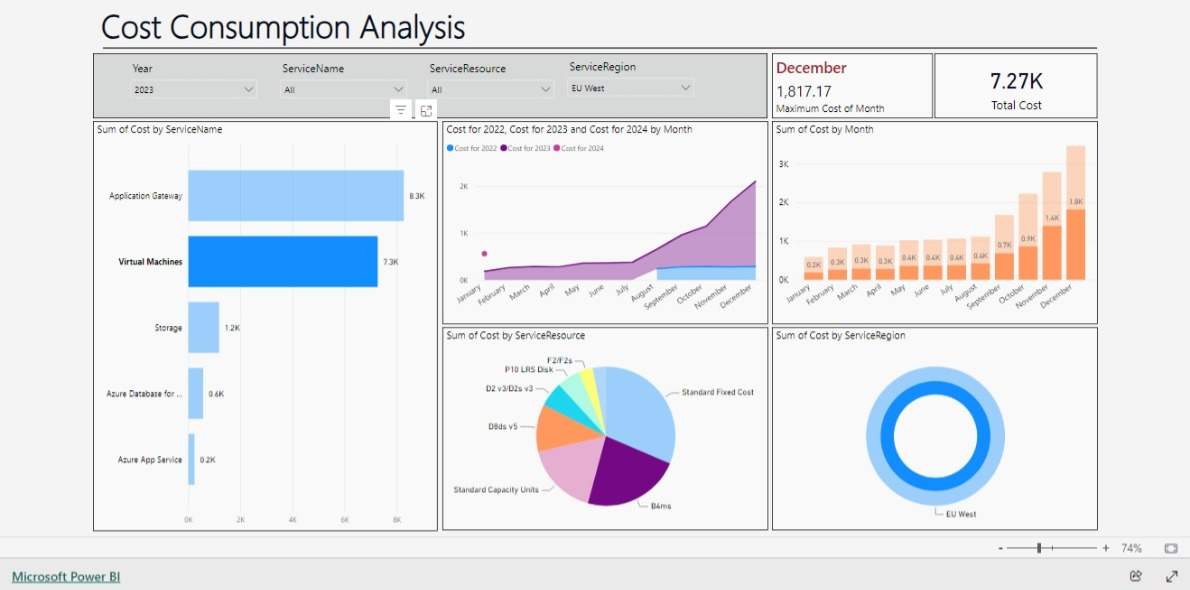

The page's visual inventory and layout, read from the dashboard file:
{"tool":"powerbi","page":{"name":"Page 1","canvas":[1503,800],"ordinal":0},"visuals":[{"type":"shape","box":[3.2,79,1006,97],"z":0},{"type":"columnChart","title":"Total Cost by Month","fields":{"Category":["AzureUsage_Workxflow_10-01-2024.Date.Variation.Date Hierarchy.Month"],"Y":["Sum(AzureUsage_Workxflow_10-01-2024.Cost)"]},"box":[1015,180,486,303.4],"z":1000},{"type":"donutChart","title":"Total Cost by ServiceRegion","fields":{"Category":["AzureUsage_Workxflow_10-01-2024.ServiceRegion"],"Y":["Sum(AzureUsage_Workxflow_10-01-2024.Cost)"]},"box":[1015,488,486,303],"z":2000},{"type":"pieChart","title":"Total Cost by ServiceResource","fields":{"Category":["AzureUsage_Workxflow_10-01-2024.ServiceResource"],"Y":["Sum(AzureUsage_Workxflow_10-01-2024.Cost)"]},"box":[523.3,488,486,303],"z":3000},{"type":"clusteredBarChart","title":"total cost by ServiceName","fields":{"Category":["AzureUsage_Workxflow_10-01-2024.ServiceName"],"Y":["Sum(AzureUsage_Workxflow_10-01-2024.Cost)"]},"box":[3,180,514,611],"z":4000},{"type":"card","fields":{"Values":["Sum(AzureUsage_Workxflow_10-01-2024.Cost)"]},"box":[1258.3,79,242.7,97],"z":5000},{"type":"slicer","fields":{"Values":["AzureUsage_Workxflow_10-01-2024.ServiceName"]},"box":[417,85.7,193.9,87.3],"z":6000},{"type":"slicer","fields":{"Values":["AzureUsage_Workxflow_10-01-2024.ServiceResource"]},"box":[610.9,85.7,192.3,87.3],"z":7000},{"type":"slicer","fields":{"Values":["AzureUsage_Workxflow_10-01-2024.ServiceRegion"]},"box":[803.2,85.7,193.9,87.3],"z":8000},{"type":"slicer","fields":{"Values":["AzureUsage_Workxflow_10-01-2024.Date.Variation.Date Hierarchy.Year"]},"box":[17.6,86.2,193,86.2],"z":9000},{"type":"multiRowCard","fields":{"Values":["AzureUsage_Workxflow_10-01-2024.Date.Variation.Date Hierarchy.Month","Sum(AzureUsage_Workxflow_10-01-2024.Cost)"]},"box":[1015.6,79.8,239.5,97.4],"z":10000},{"type":"stackedAreaChart","title":"Cost Comparison by Year","fields":{"Category":["AzureUsage_Workxflow_10-01-2024.Date.Variation.Date Hierarchy.Month"],"Y":["AzureUsage_Workxflow_10-01-2024.Cost for 2022","AzureUsage_Workxflow_10-01-2024.Cost for 2023","AzureUsage_Workxflow_10-01-2024.Cost for 2024"]},"box":[523.3,180,486,303.3],"z":11000},{"type":"shape","box":[17.6,19,1483.4,105.4],"z":12000},{"type":"textbox","box":[9.6,0,811.2,83],"z":13000},{"type":"slicer","fields":{"Values":["AzureUsage_Workxflow_10-01-2024.Date.Variation.Date Hierarchy.Month"]},"box":[221.4,85.7,193.9,87.3],"z":13001}]}

Visuals, with their boxes on the page's 1503x800 design canvas (x1, y1, x2, y2). These are canvas units, not pixel positions in the 1190x590 screenshot, which may show the page scaled, cropped or inside an application window:
shape: [3, 79, 1009, 176]
"Total Cost by Month" columnChart: [1015, 180, 1501, 483]
"Total Cost by ServiceRegion" donutChart: [1015, 488, 1501, 791]
"Total Cost by ServiceResource" pieChart: [523, 488, 1009, 791]
"total cost by ServiceName" clusteredBarChart: [3, 180, 517, 791]
card - Sum(AzureUsage_Workxflow_10-01-2024.Cost): [1258, 79, 1501, 176]
slicer - AzureUsage_Workxflow_10-01-2024.ServiceName: [417, 86, 611, 173]
slicer - AzureUsage_Workxflow_10-01-2024.ServiceResource: [611, 86, 803, 173]
slicer - AzureUsage_Workxflow_10-01-2024.ServiceRegion: [803, 86, 997, 173]
slicer - AzureUsage_Workxflow_10-01-2024.Date.Variation.Date Hierarchy.Year: [18, 86, 211, 172]
multiRowCard - AzureUsage_Workxflow_10-01-2024.Date.Variation.Date Hierarchy.Month x Sum(AzureUsage_Workxflow_10-01-2024.Cost): [1016, 80, 1255, 177]
"Cost Comparison by Year" stackedAreaChart: [523, 180, 1009, 483]
shape: [18, 19, 1501, 124]
textbox: [10, 0, 821, 83]
slicer - AzureUsage_Workxflow_10-01-2024.Date.Variation.Date Hierarchy.Month: [221, 86, 415, 173]
